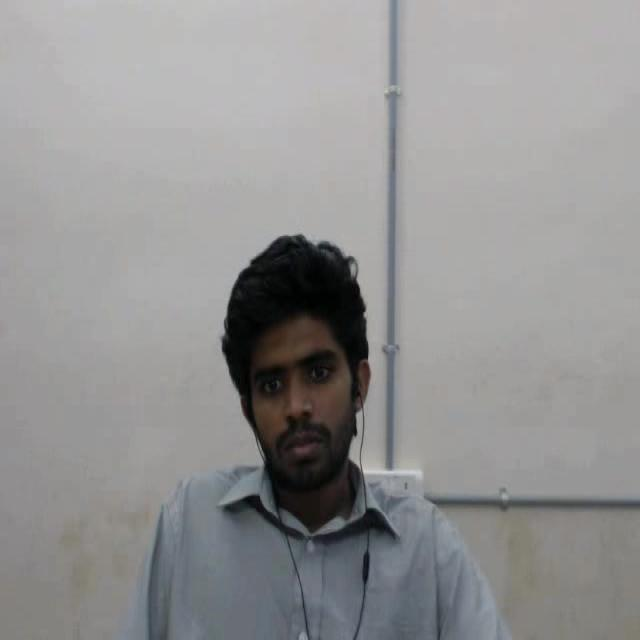Engaged: (208, 217, 426, 533)
